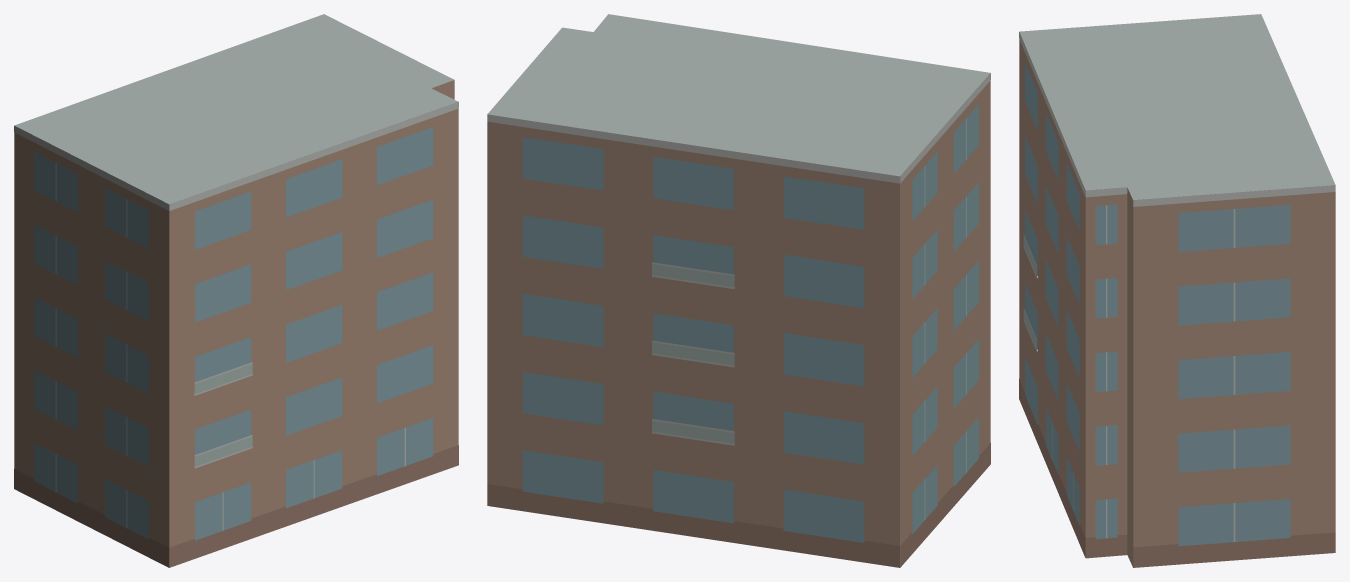
File: survey-upis-32992950.glb
The picture shows the model from 3 angles, left to right: view 1: azimuth 30°, elevation 25°; view 2: azimuth 150°, elevation 25°; view 3: azimuth 270°, elevation 25°; orthographic projection. The views are drawn at different scales.
Parts seen in each view (by area): view 1: survey-upis-32992950.tmp; view 2: survey-upis-32992950.tmp; view 3: survey-upis-32992950.tmp.
Part boxes in pixels (x1,y1,x2,y2): survey-upis-32992950.tmp: (14, 14, 458, 567); survey-upis-32992950.tmp: (487, 14, 990, 567); survey-upis-32992950.tmp: (1019, 14, 1335, 567).
Size of the model in its own units: 14.34 by 13.2 by 10.3.
